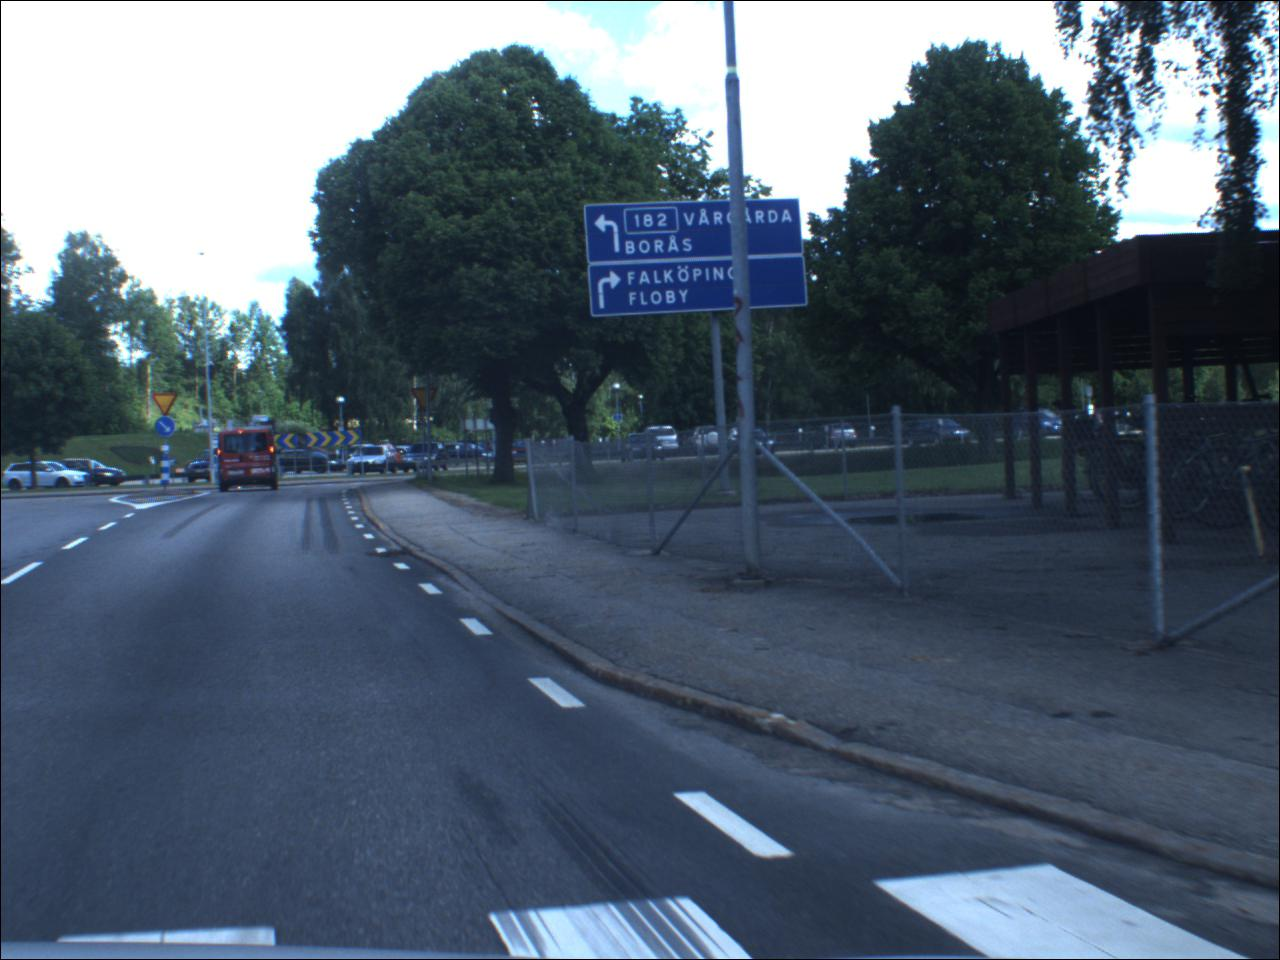GIVE_WAY: (413, 387, 441, 416), (155, 395, 181, 418)
PASS_RIGHT_SIDE: (156, 418, 178, 440)
